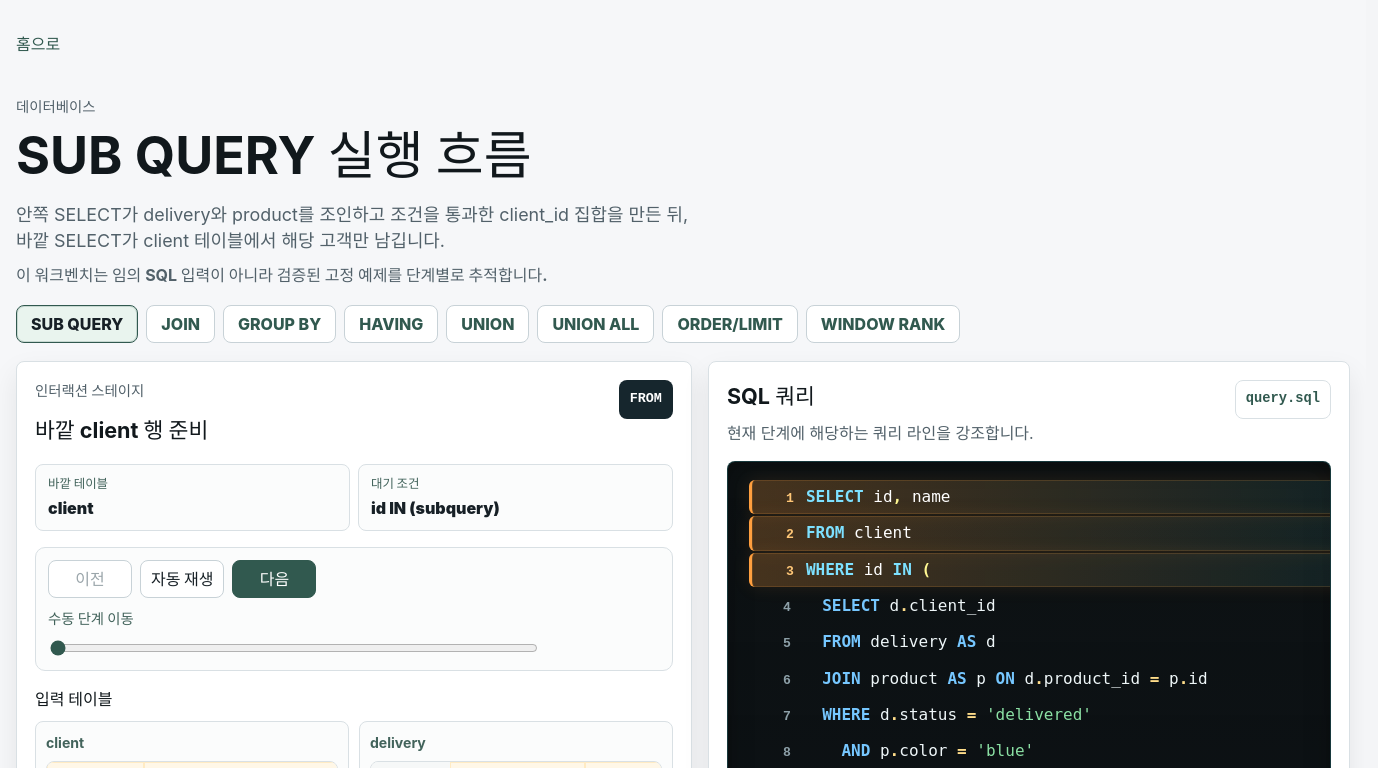
Test: DatabasePage › uses independent queries for GROUP BY and HAVING tabs
The image size is (1378, 768).
Click the tab "GROUP BY". click: point(280, 324)
box: [223,305,336,343]
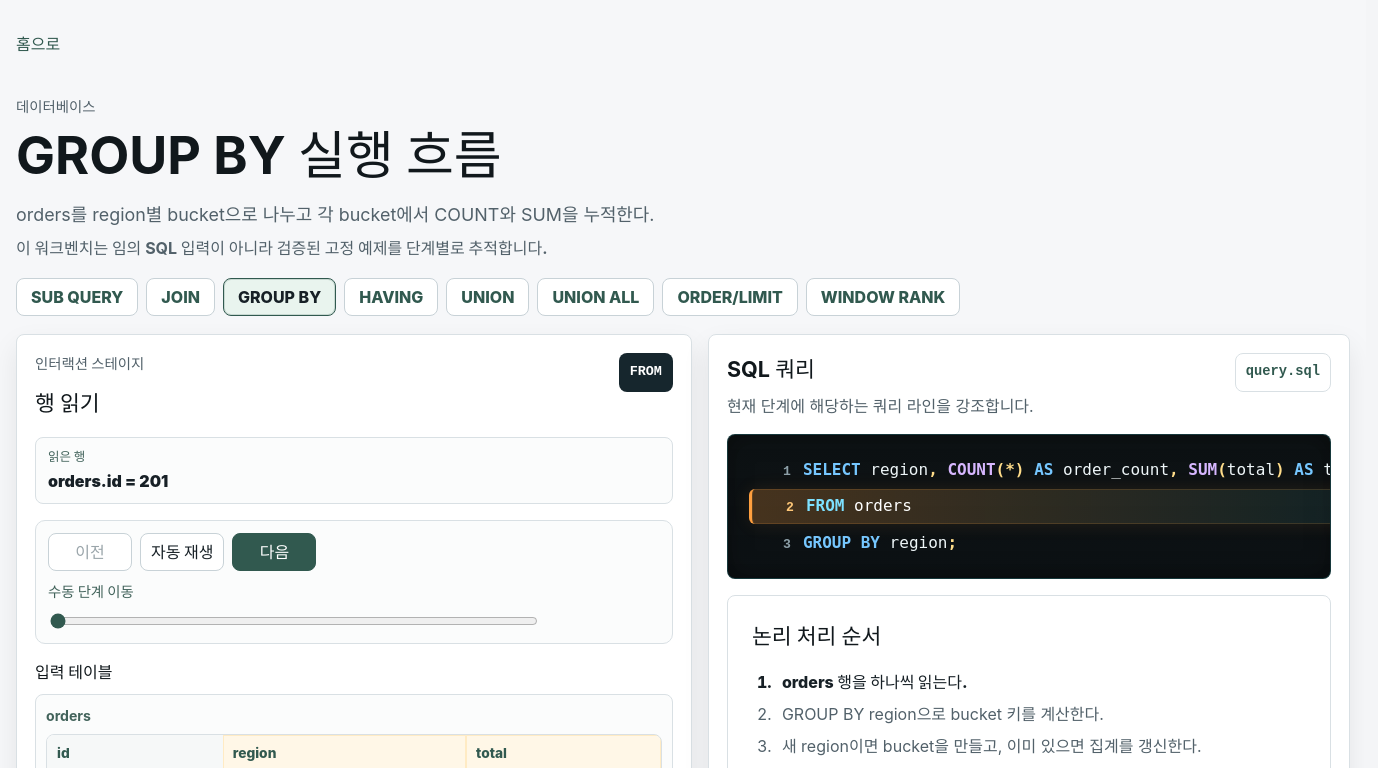
Now the heading "GROUP BY 실행 흐름" is shown, box [16,124,502,187]
Click the button with aria-label "SQL 다음 단계". click: point(274, 552)
box: [232,533,316,571]
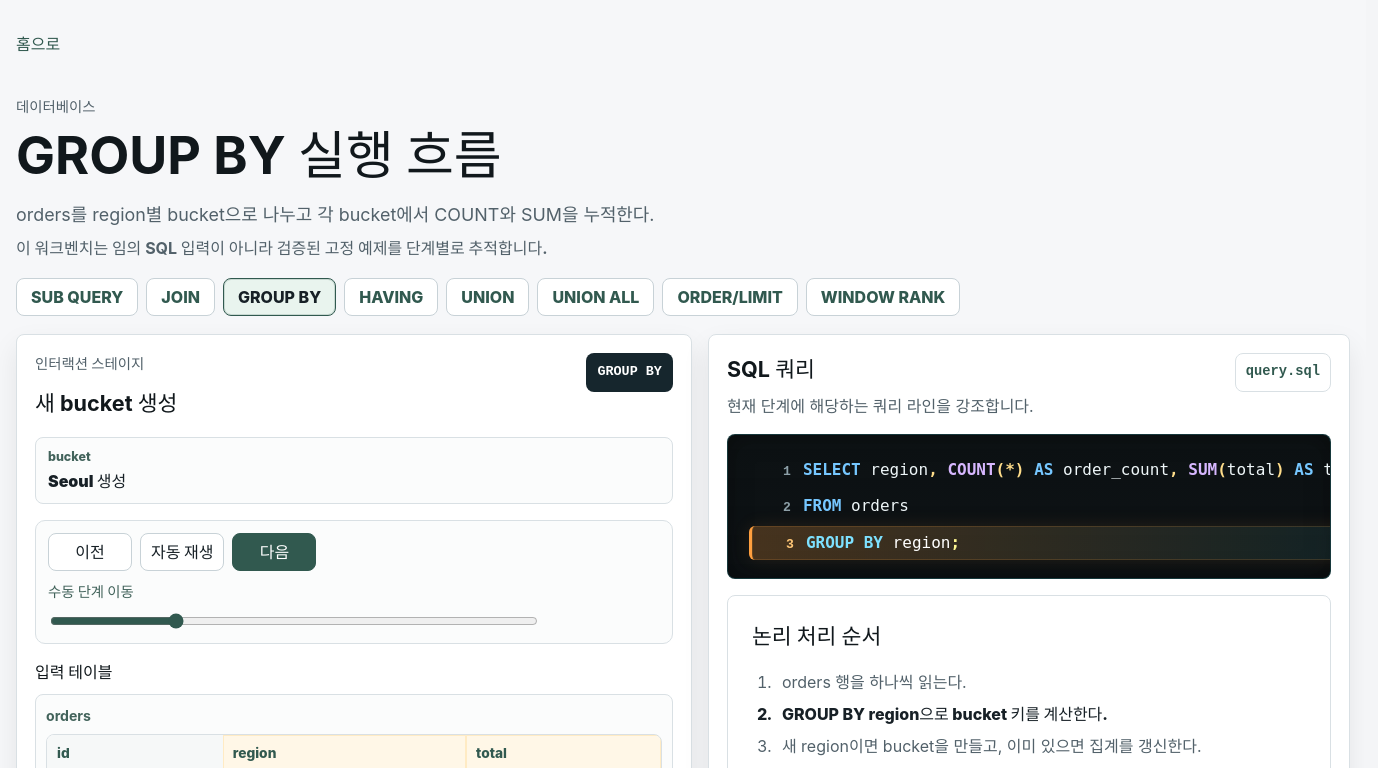
Now the heading "새 bucket 생성" is shown, box [35,387,177,420]
Click the tab "HAVING". click: point(391, 298)
box: [344,278,438,316]
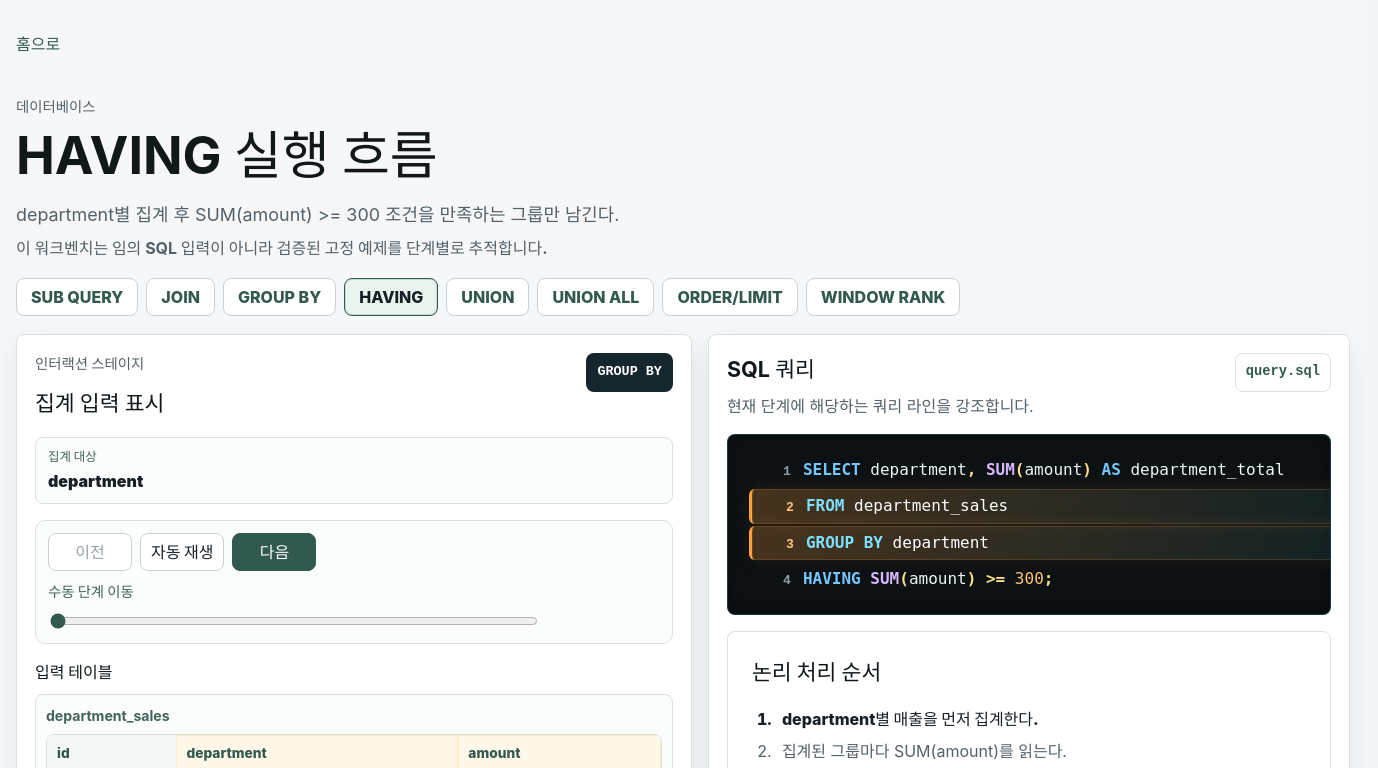
Expected: the element with class "sql-query" does not show "UNION"
Now the heading "HAVING 실행 흐름" is shown, box [16,124,438,187]
